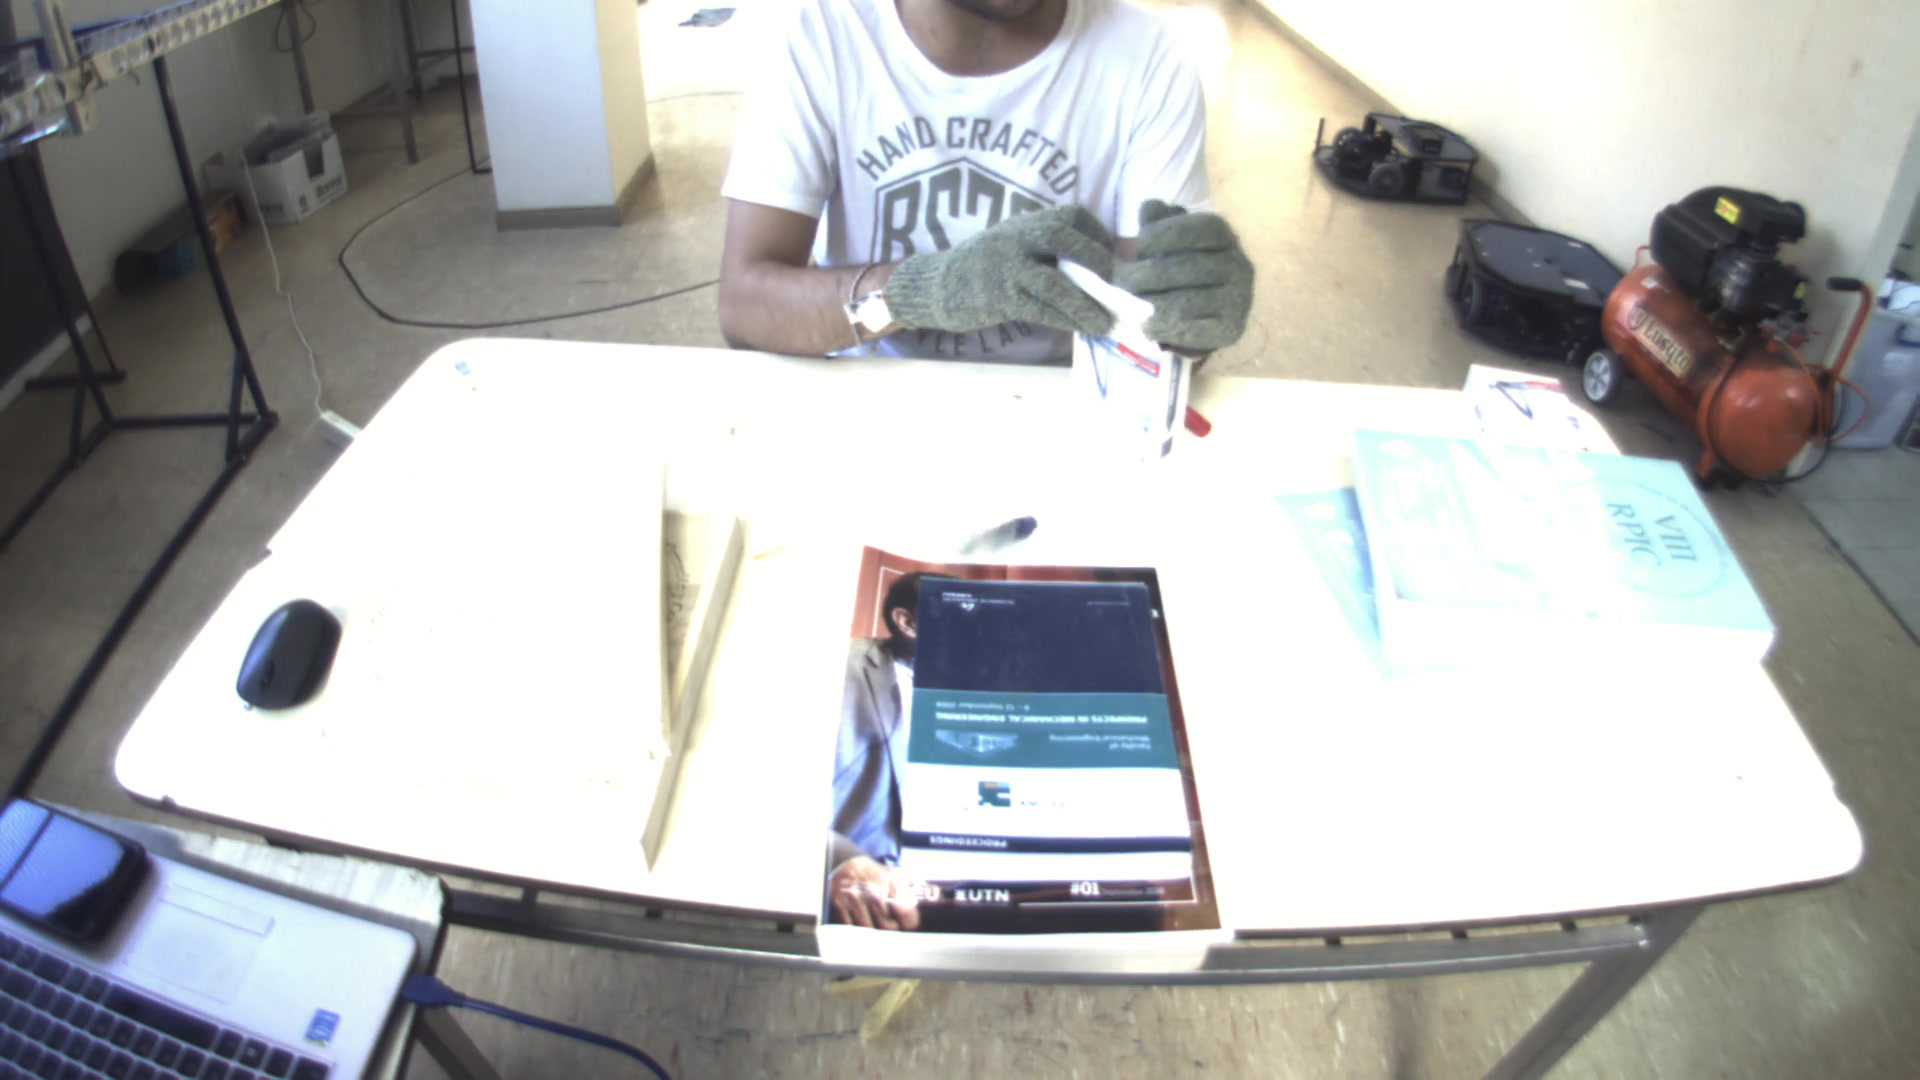hand: (856, 200, 1139, 348), (1120, 198, 1265, 357)
